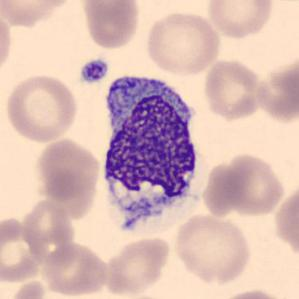Monocyte: (94, 64, 208, 236)
Platelets: (78, 58, 111, 86)
RBC: (171, 212, 253, 286), (202, 151, 288, 218), (3, 71, 80, 143), (144, 8, 223, 76), (32, 136, 102, 202), (102, 234, 172, 297), (201, 57, 267, 121), (39, 240, 111, 298), (23, 198, 78, 272), (0, 214, 50, 285), (253, 54, 298, 125), (79, 0, 142, 50), (205, 0, 276, 40), (0, 0, 77, 28), (6, 278, 70, 299), (212, 286, 293, 299), (0, 9, 14, 79), (268, 0, 298, 7)
